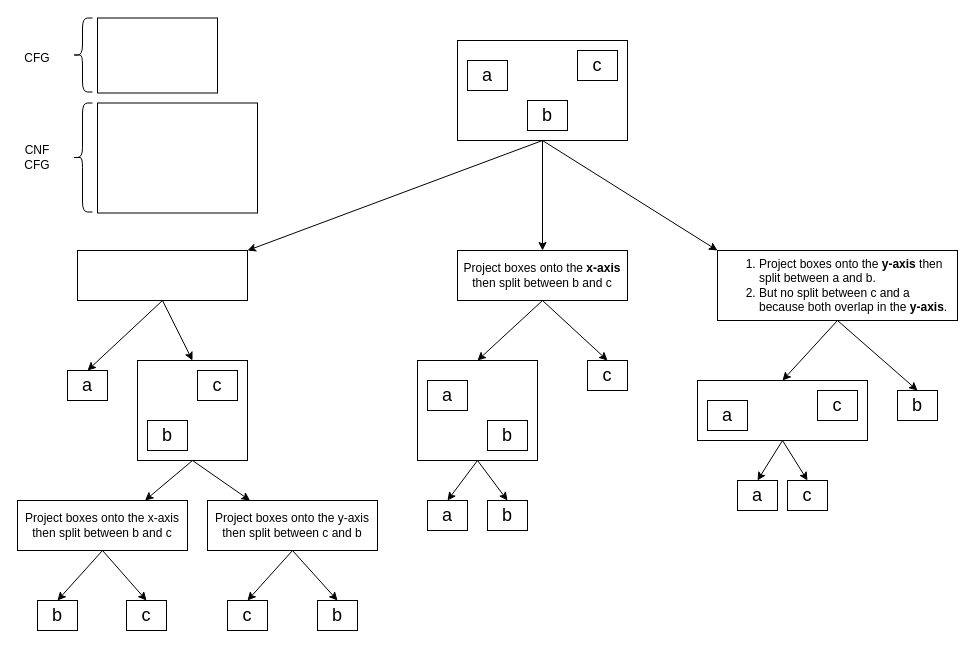
The diagram is 975 pixels wide and 648 high, and some of its shapes have lost their labels. The centre of each missing label's shape, as x and y in pixels:
"Project boxes onto the x-axis then split between a and b" goes at (162,275).
"START := A C B A := a B := b C := c" goes at (157,55).
"START := AC B | A CB AC := A C CB := C B A := a B := b C := c" goes at (177,157).
